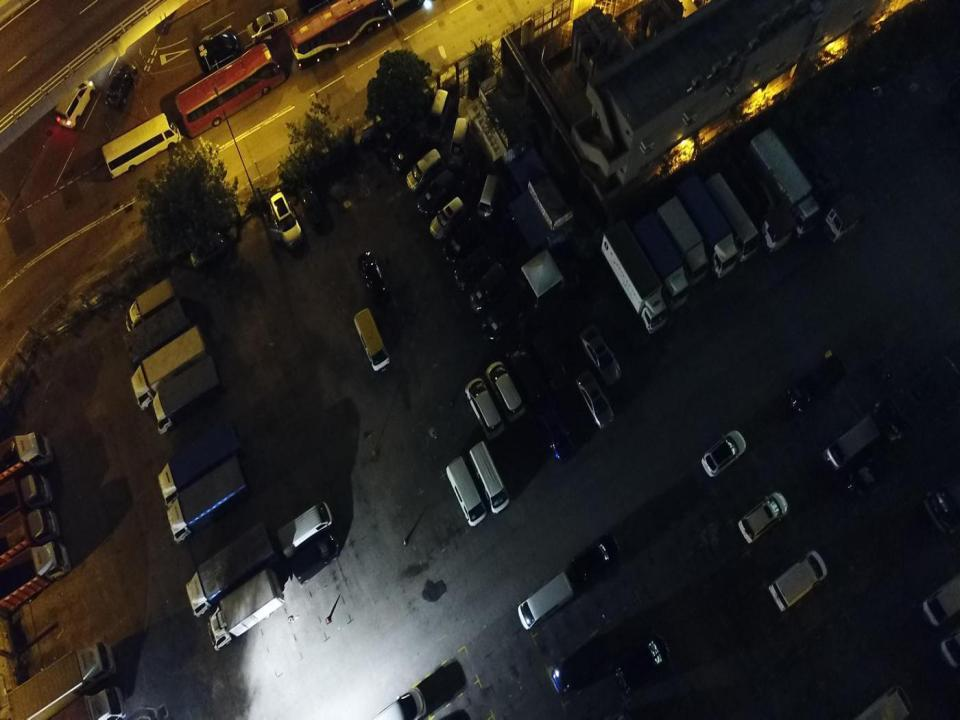bus: (175, 42, 286, 140), (289, 0, 391, 69), (704, 172, 758, 261)
car: (787, 354, 846, 414), (551, 635, 604, 694), (616, 636, 669, 690), (572, 530, 620, 587), (579, 326, 622, 387), (290, 532, 340, 583), (506, 345, 545, 405), (535, 400, 573, 461), (576, 370, 614, 429), (702, 429, 746, 479), (845, 451, 890, 497), (530, 335, 567, 390), (55, 77, 94, 128), (470, 261, 506, 316), (369, 686, 426, 719), (358, 250, 389, 306), (444, 217, 480, 263), (199, 31, 239, 72), (454, 245, 489, 291), (298, 181, 327, 232), (106, 61, 136, 109), (248, 8, 288, 44), (188, 232, 228, 268), (430, 196, 464, 238), (463, 152, 485, 194)
truck: (778, 124, 864, 241), (185, 521, 279, 616), (5, 642, 116, 719), (159, 417, 250, 508), (747, 127, 819, 238), (600, 220, 669, 334), (167, 454, 252, 545), (132, 324, 213, 412), (721, 158, 792, 254), (207, 566, 284, 650), (678, 173, 737, 278), (153, 355, 226, 434), (634, 212, 689, 312), (122, 297, 193, 374), (0, 541, 71, 614), (657, 196, 708, 288), (2, 507, 60, 578), (0, 430, 55, 500), (0, 472, 53, 539), (30, 685, 126, 719), (126, 276, 178, 334)
van: (873, 355, 960, 446), (102, 113, 183, 180), (768, 548, 828, 612), (822, 414, 881, 475), (517, 570, 575, 630), (276, 502, 333, 558), (469, 439, 510, 514), (446, 454, 487, 528), (738, 490, 788, 544), (465, 376, 505, 440), (483, 284, 525, 344), (484, 361, 524, 423), (355, 307, 390, 375), (845, 686, 913, 719), (269, 190, 304, 250), (923, 570, 960, 621), (376, 111, 411, 159), (407, 148, 443, 193), (418, 169, 454, 214), (390, 127, 424, 174), (427, 88, 451, 144), (478, 175, 501, 222), (450, 117, 470, 168)
